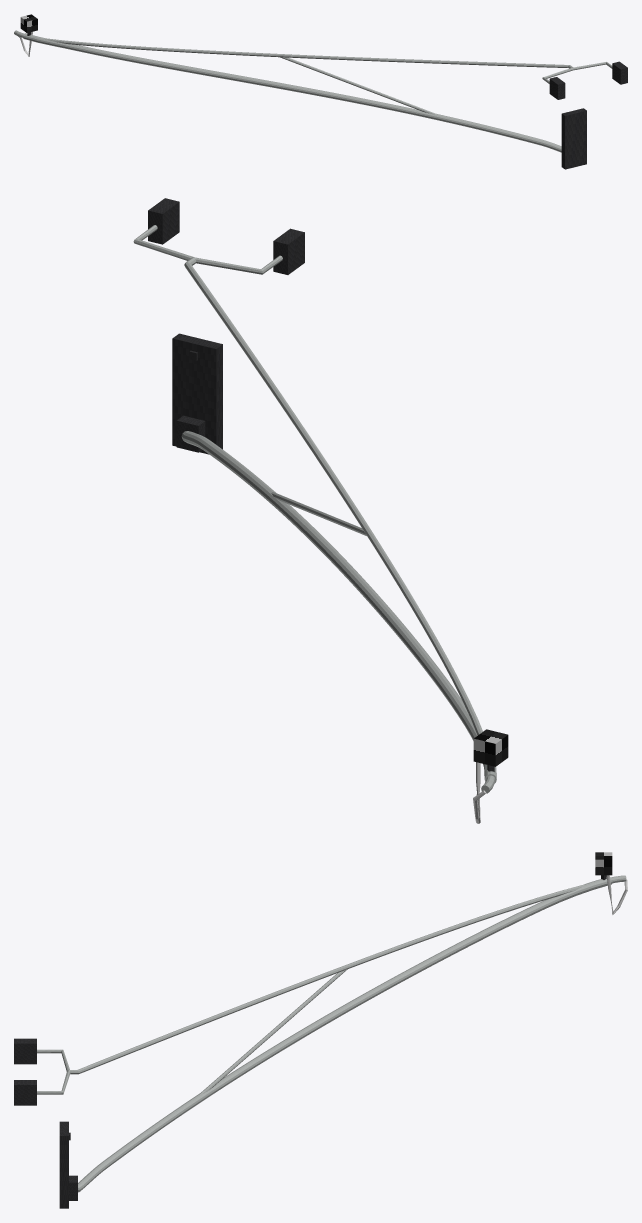
File: arm_8_left_wired.obj
3 views of the same model, one above another, from view 1: azimuth 30°, elevation 25°; view 2: azimuth 150°, elevation 25°; view 3: azimuth 270°, elevation 25° (orthographic). The views are drawn at different scales.
Parts seen in each view (by area): view 1: pole_light_mount_8_left_wired; view 2: pole_light_mount_8_left_wired; view 3: pole_light_mount_8_left_wired.
Part boxes in pixels (x1,y1,x2,y2): pole_light_mount_8_left_wired: [14, 14, 627, 169]; pole_light_mount_8_left_wired: [133, 198, 508, 823]; pole_light_mount_8_left_wired: [14, 852, 627, 1208].
Size of the model in its own units: 6.63 by 1.68 by 6.71.
